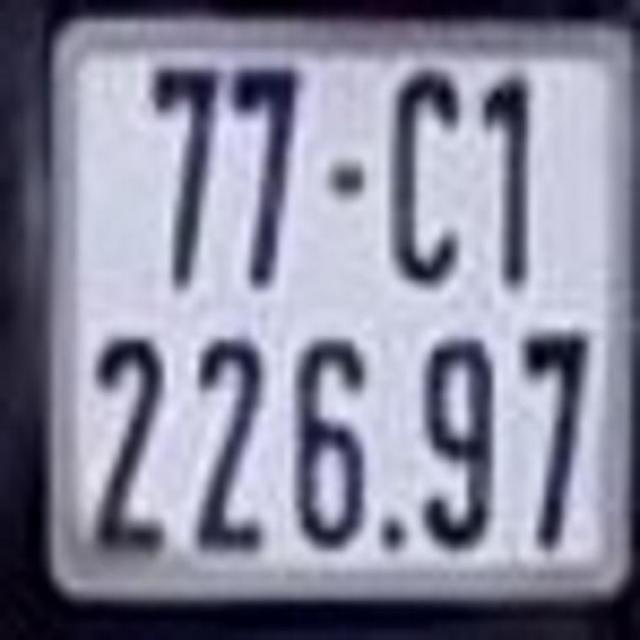1: (476, 67, 536, 288)
2: (188, 329, 268, 553), (91, 333, 170, 546)
6: (290, 336, 370, 548)
7: (144, 63, 220, 286), (229, 58, 302, 285), (519, 322, 588, 551)
9: (418, 330, 497, 553)
C: (388, 67, 462, 280)
